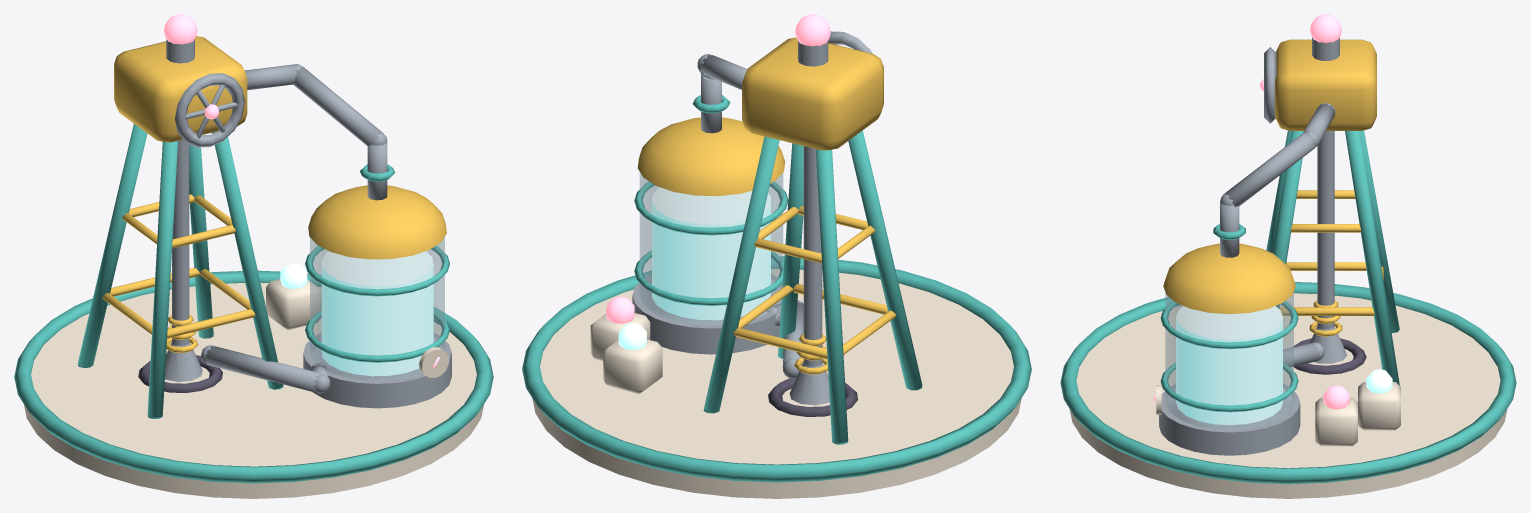
File: extractor.glb
The picture shows the model from 3 angles, left to right: view 1: azimuth 30°, elevation 25°; view 2: azimuth 150°, elevation 25°; view 3: azimuth 270°, elevation 25°; orthographic projection. The views are drawn at different scales.
Visible parts, largest first — view 1: extractor; view 2: extractor; view 3: extractor.
Boxes of the visible parts, <box> form: extractor: <box>14,14,493,498</box>; extractor: <box>522,14,1031,498</box>; extractor: <box>1060,14,1516,498</box>.
Bounding box in the file's own units: 4.26 × 3.77 × 4.26.
